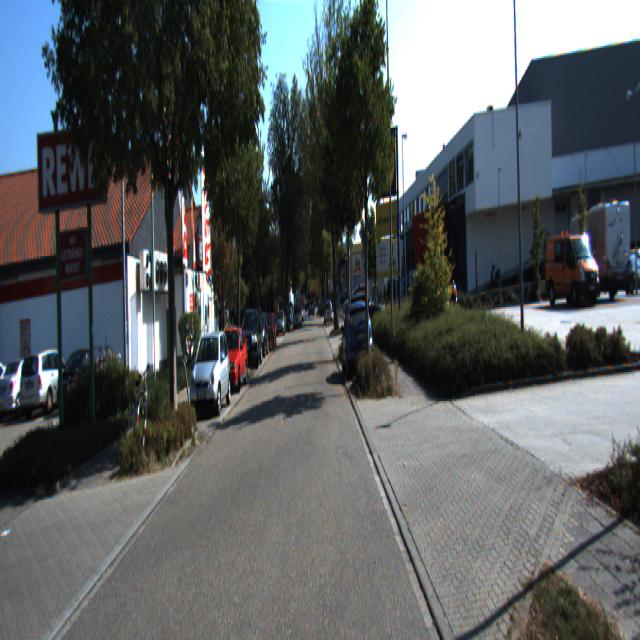Car: (544, 224, 602, 310), (19, 348, 81, 422), (189, 332, 231, 422), (0, 357, 53, 425), (341, 299, 373, 377), (215, 327, 248, 395), (239, 310, 263, 373), (250, 310, 269, 359)
